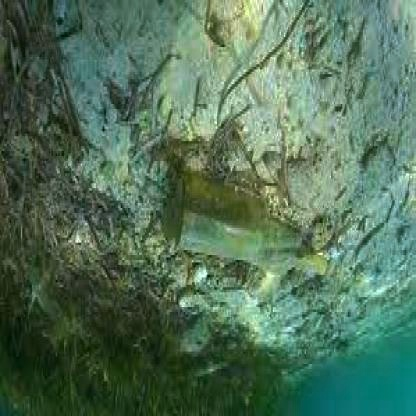gbottle: (164, 173, 328, 275)
